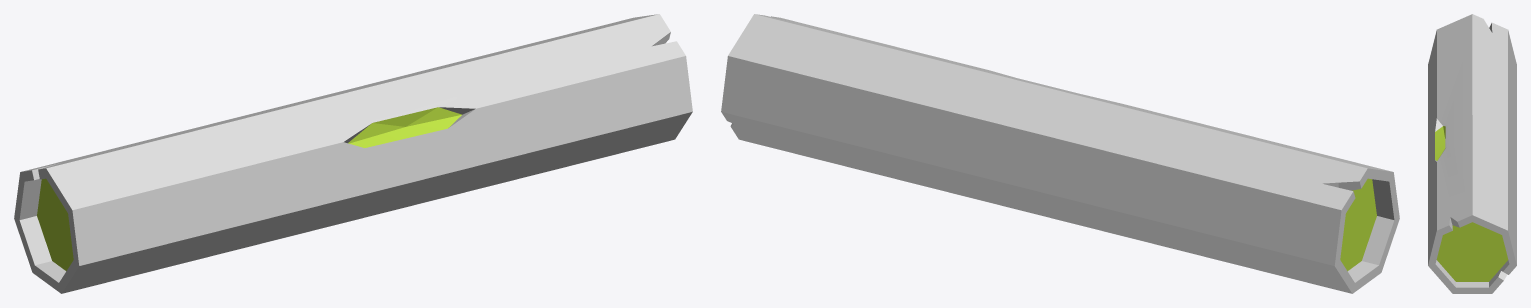
Rendered from Kloda2.fbx.
The picture shows the model from 3 angles, left to right: view 1: azimuth 30°, elevation 25°; view 2: azimuth 150°, elevation 25°; view 3: azimuth 270°, elevation 25°; orthographic projection. The views are drawn at different scales.
Visible parts, largest first — view 1: Cylinder_4; view 2: Cylinder_4; view 3: Cylinder_4.
Part boxes in pixels (bbox=[...]): Cylinder_4: bbox=[14, 14, 692, 293]; Cylinder_4: bbox=[721, 14, 1399, 293]; Cylinder_4: bbox=[1428, 14, 1516, 293].
Bounding box in the file's own units: 531 × 98.91 × 97.49.
